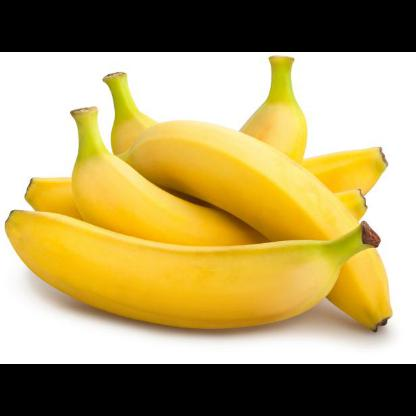banana: (25, 56, 307, 220), (4, 210, 380, 328), (70, 107, 366, 245), (102, 72, 388, 194)
